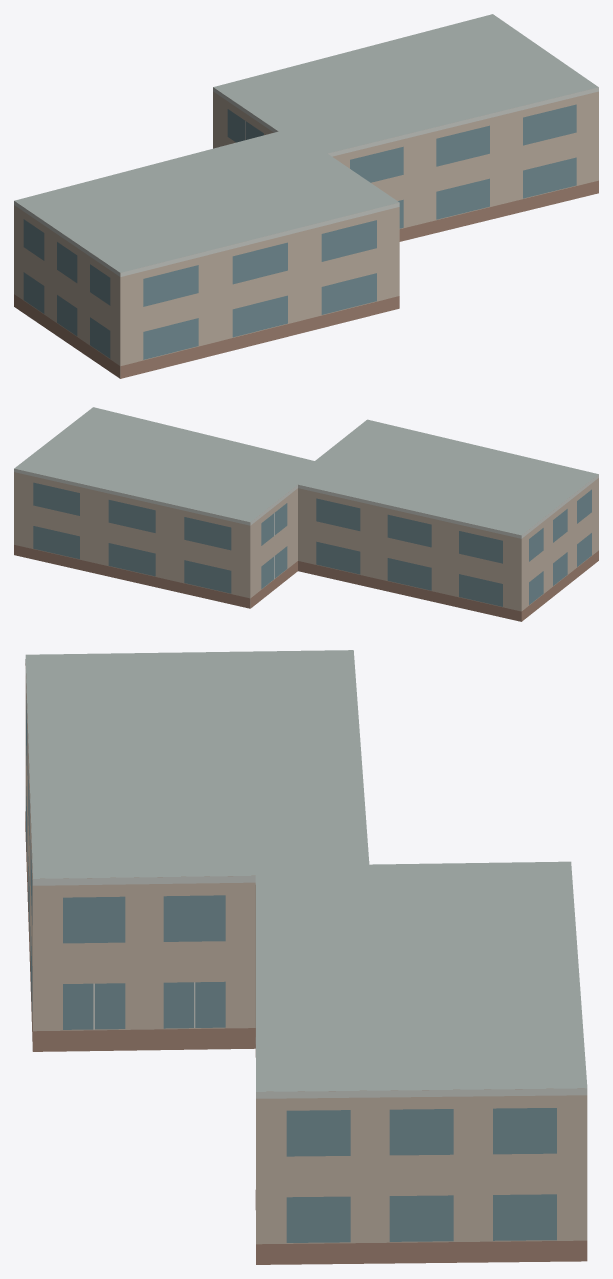
File: survey-upis-32924203.glb
3 views of the same model, one above another, from view 1: azimuth 30°, elevation 25°; view 2: azimuth 150°, elevation 25°; view 3: azimuth 270°, elevation 25° (orthographic). The views are drawn at different scales.
Visible parts, largest first — view 1: survey-upis-32924203.tmp; view 2: survey-upis-32924203.tmp; view 3: survey-upis-32924203.tmp.
Boxes of the visible parts, x1,y1,x2,y2 form: survey-upis-32924203.tmp: (14,14,598,378); survey-upis-32924203.tmp: (14,407,598,621); survey-upis-32924203.tmp: (25,650,587,1264).
Bounding box in the file's own units: 33.43 × 6.1 × 17.97.
